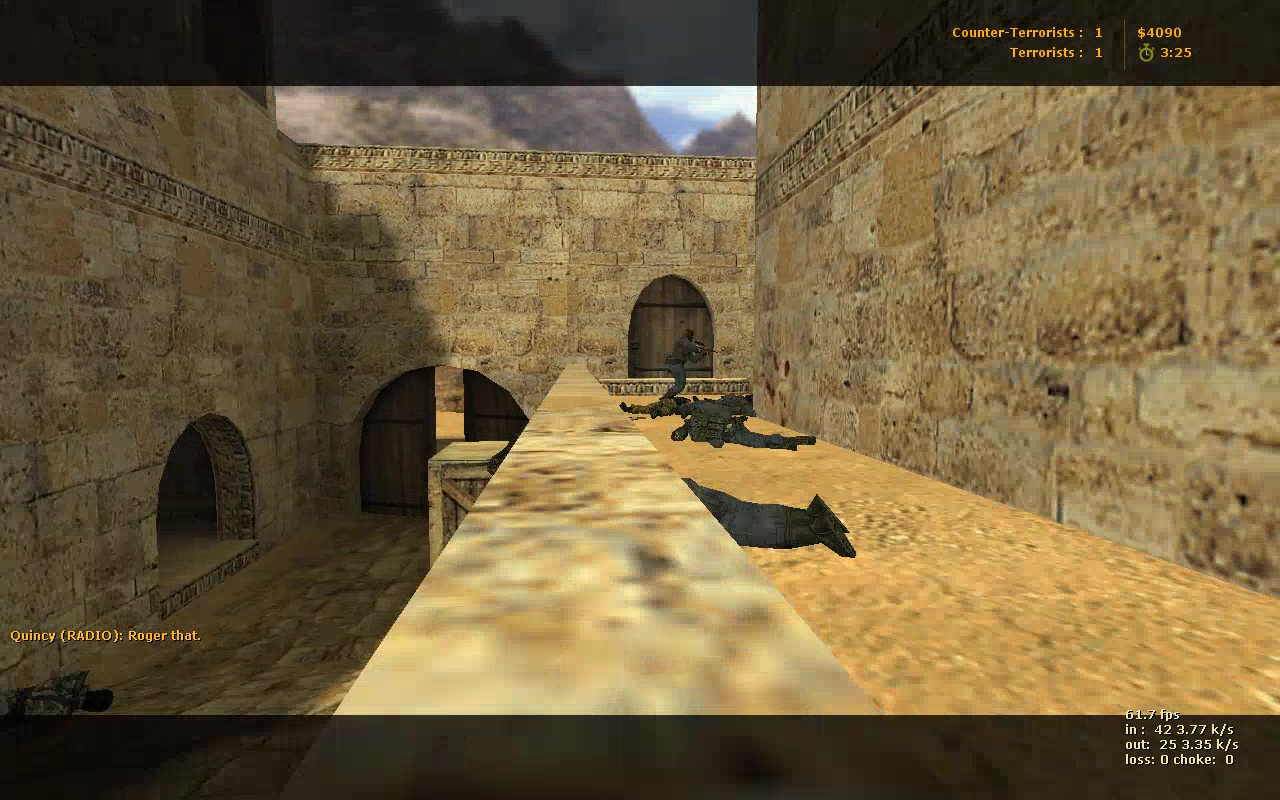ct: (662, 327, 711, 403)
dead: (685, 482, 855, 547), (672, 408, 816, 453), (625, 396, 752, 418)
